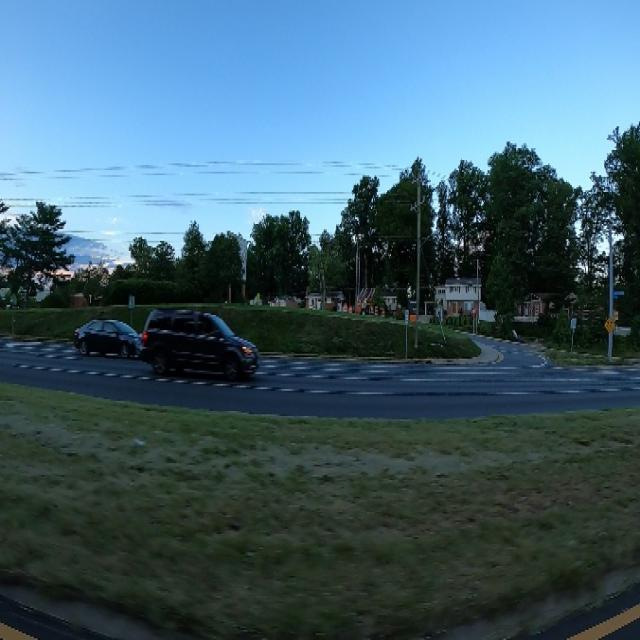cars: (139, 302, 262, 390), (72, 305, 137, 364)
